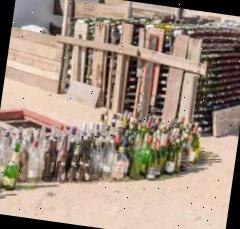glass: (0, 88, 208, 217)
